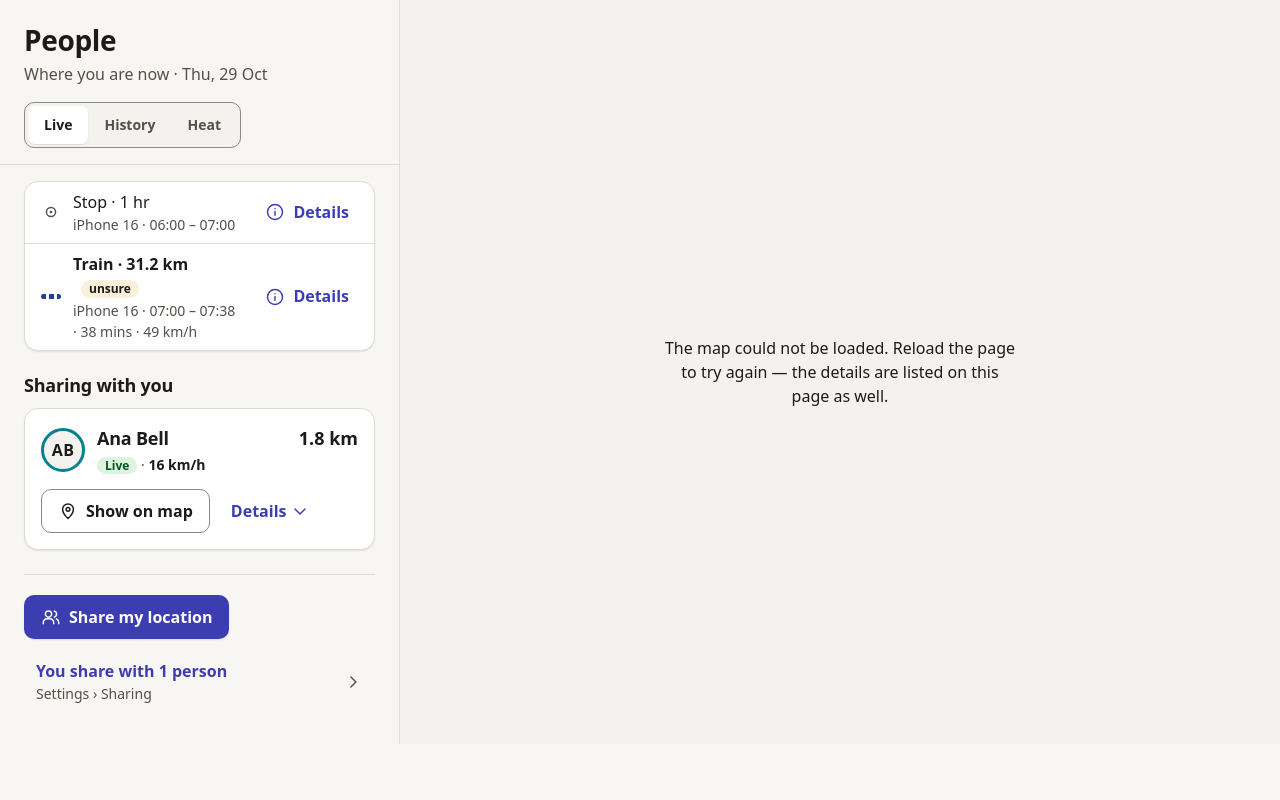
Test case: the People page's list › tells a share without recent details from one that leaves them out
(page scrolled)
Click the button "Details" below "16 km/h" at (271, 511), box x1=218 y1=489 x2=324 y2=533
(page scrolled)
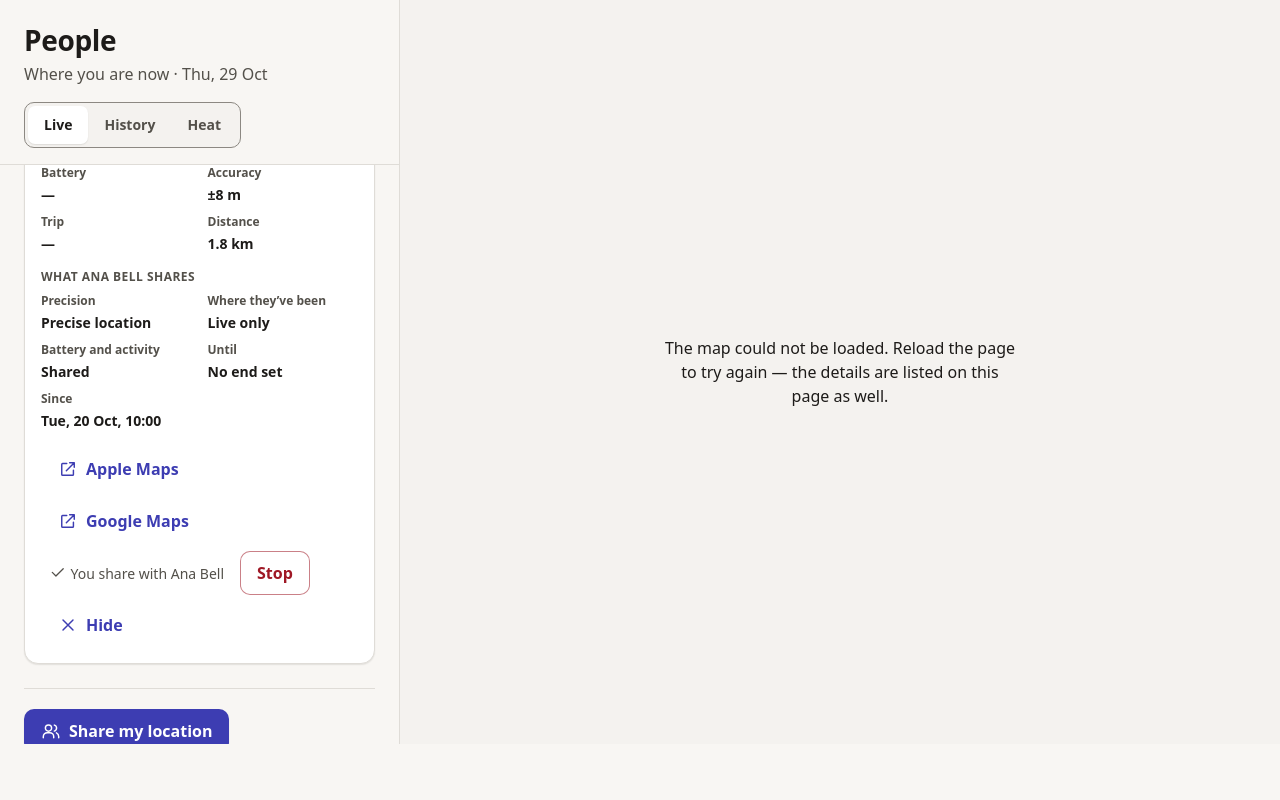
Expected: the text "—" below "Trip" is shown, x1=41 y1=234 x2=55 y2=253
Expected: the text "Shared" is shown, x1=41 y1=362 x2=90 y2=381
